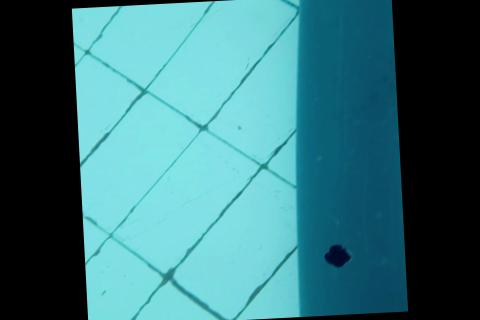kebocoran: (322, 241, 355, 268)
